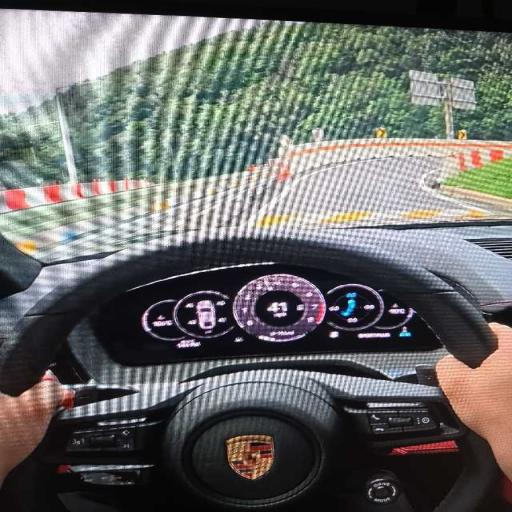car: (0, 10, 511, 511)
lane: (38, 157, 493, 261)
person: (436, 324, 511, 479), (0, 371, 72, 486)
